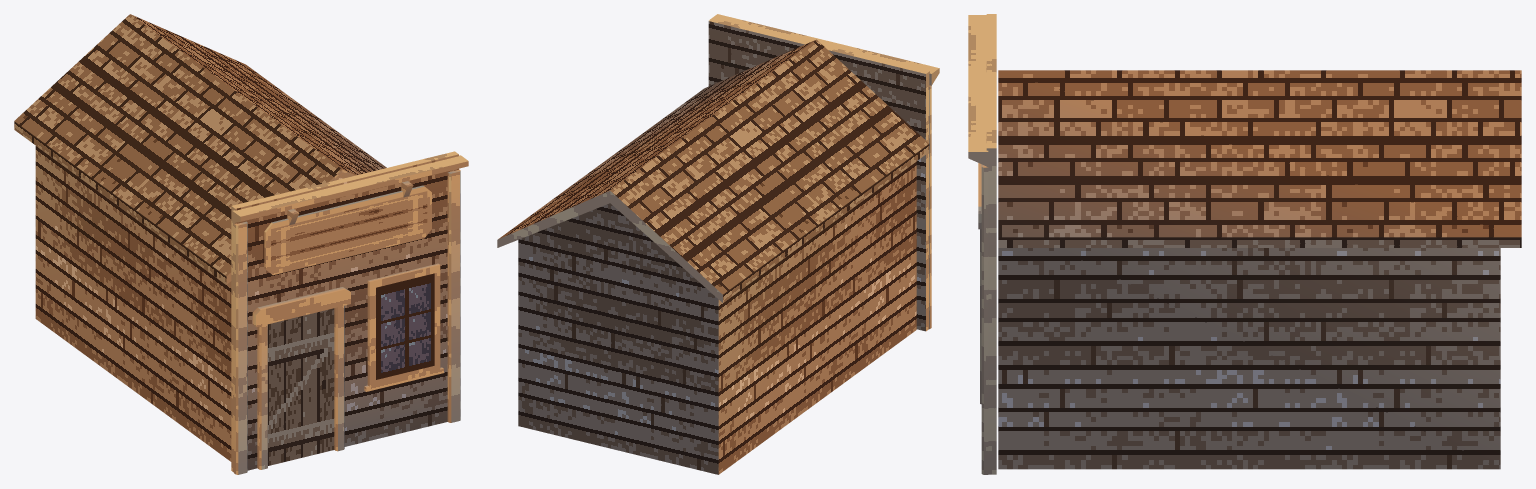
File: wtown.facade__a_square.glb
3 views of the same model, side by side, from view 1: azimuth 30°, elevation 25°; view 2: azimuth 150°, elevation 25°; view 3: azimuth 270°, elevation 25° (orthographic). The views are drawn at different scales.
Visible parts, largest first — view 1: kit_roof, kit_body, kit_front, kit_card_panes, kit_trim, kit_windows; view 2: kit_body, kit_roof, kit_front, kit_trim; view 3: kit_body, kit_roof, kit_trim, kit_front.
Part boxes in pixels (bbox=[...]): kit_roof: bbox=[14, 14, 386, 284]; kit_body: bbox=[35, 146, 351, 461]; kit_front: bbox=[231, 151, 458, 472]; kit_card_panes: bbox=[268, 191, 434, 465]; kit_trim: bbox=[232, 155, 468, 474]; kit_windows: bbox=[364, 263, 443, 391]; kit_body: bbox=[518, 161, 916, 474]; kit_roof: bbox=[497, 39, 929, 302]; kit_front: bbox=[708, 18, 929, 331]; kit_trim: bbox=[710, 14, 939, 328]; kit_body: bbox=[998, 248, 1500, 469]; kit_roof: bbox=[998, 70, 1521, 247]; kit_trim: bbox=[968, 15, 988, 474]; kit_front: bbox=[986, 14, 996, 474].
Bounding box in the file's own units: 3.94 × 4.44 × 6.61.
6 materials, 6 textured.
